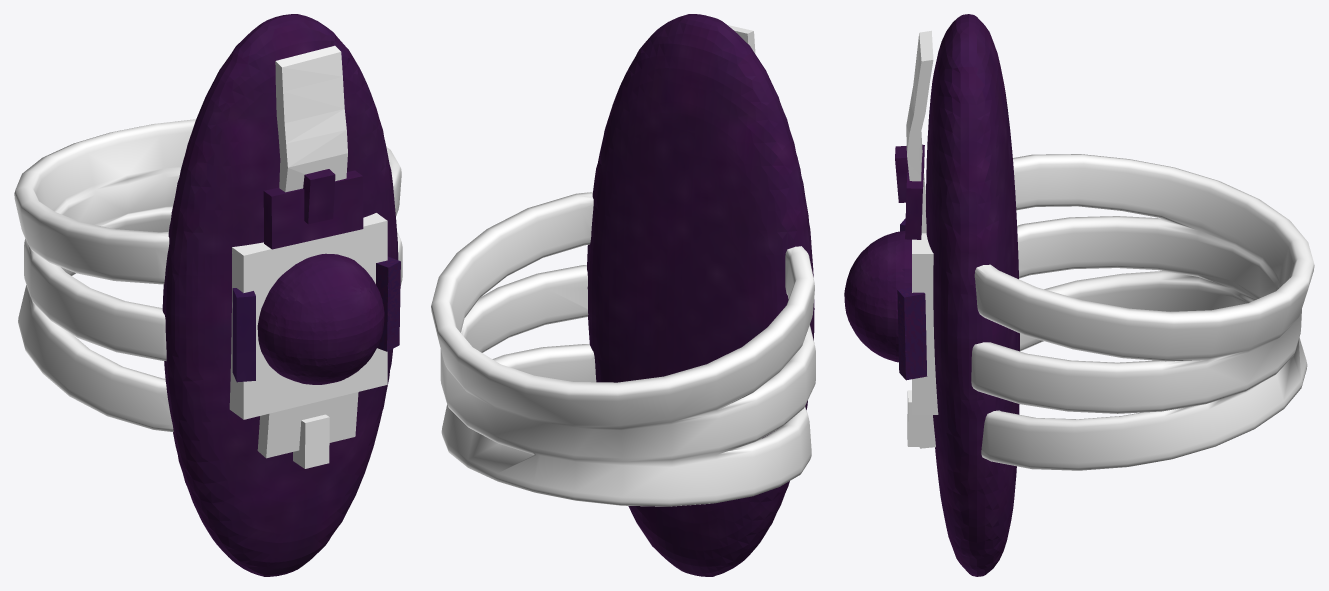
Rendered from anillo.glb.
3 renders of one model, left to right at view 1: azimuth 30°, elevation 25°; view 2: azimuth 150°, elevation 25°; view 3: azimuth 270°, elevation 25°, orthographic.
Parts seen in each view (by area): view 1: Esfera.003; view 2: Esfera.003; view 3: Esfera.003.
Part boxes in pixels (x1,y1,x2,y2): Esfera.003: [14, 14, 402, 576]; Esfera.003: [431, 14, 815, 576]; Esfera.003: [844, 14, 1314, 576].
Size of the model in its own units: 0.0279 by 0.0451 by 0.0349.
Materials: 3 (2 with a texture image).
